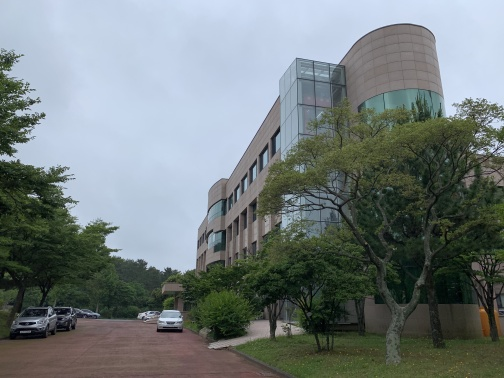Joint Experimental Labs: (185, 14, 453, 263)
